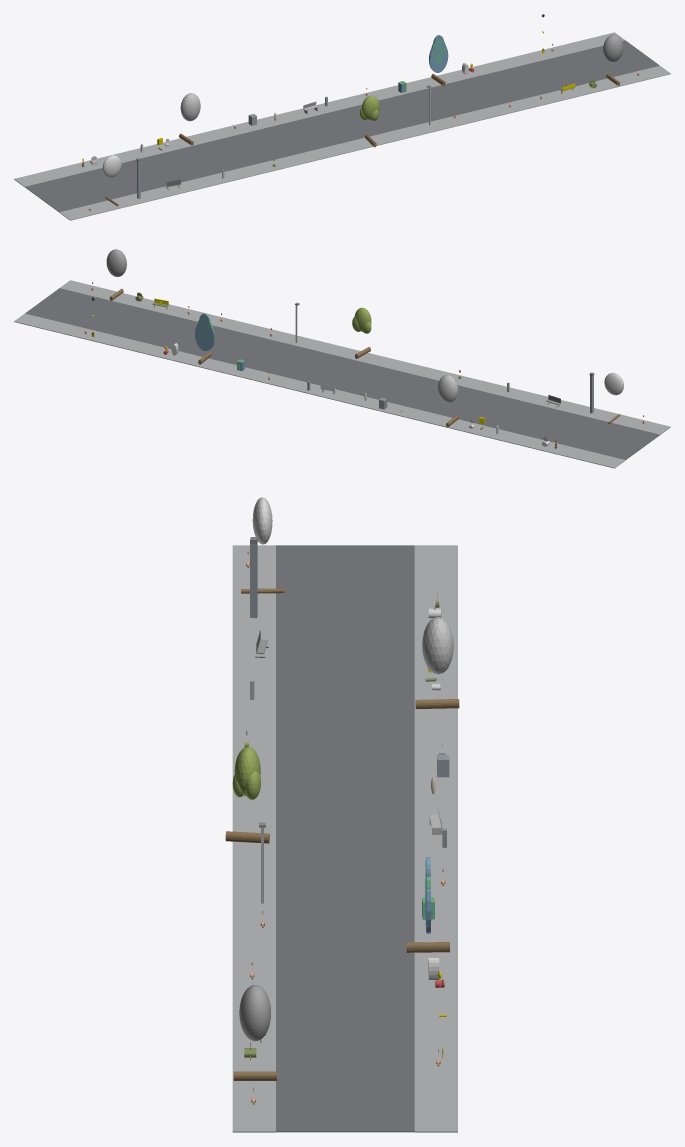
3 views of the same model, one above another, from view 1: azimuth 30°, elevation 25°; view 2: azimuth 150°, elevation 25°; view 3: azimuth 270°, elevation 25° (orthographic). The views are drawn at different scales.
Visible parts, largest first — view 1: road_slab, sidewalk_left, sidewalk_right, inst_0015, inst_0013, inst_0016, inst_0014, inst_0012; view 2: road_slab, sidewalk_right, sidewalk_left, inst_0015, inst_0013, inst_0016, inst_0014, inst_0012; view 3: road_slab, sidewalk_right, sidewalk_left, inst_0013, inst_0016, inst_0014, inst_0012, inst_0015.
Part boxes in pixels (x1=…): road_slab: x1=25, y1=40, x2=659, y2=212; sidewalk_left: x1=59, y1=65, x2=670, y2=220; sidewalk_right: x1=14, y1=32, x2=624, y2=187; inst_0015: x1=429, y1=35, x2=448, y2=86; inst_0013: x1=179, y1=93, x2=200, y2=145; inst_0016: x1=603, y1=34, x2=623, y2=85; inst_0014: x1=360, y1=95, x2=379, y2=147; inst_0012: x1=102, y1=155, x2=121, y2=206; road_slab: x1=25, y1=288, x2=659, y2=460; sidewalk_right: x1=14, y1=313, x2=625, y2=468; sidewalk_left: x1=60, y1=280, x2=670, y2=434; inst_0015: x1=195, y1=313, x2=214, y2=364; inst_0013: x1=437, y1=375, x2=458, y2=427; inst_0016: x1=106, y1=249, x2=126, y2=300; inst_0014: x1=352, y1=307, x2=371, y2=358; inst_0012: x1=604, y1=372, x2=623, y2=424; road_slab: x1=276, y1=545, x2=414, y2=1132; sidewalk_right: x1=414, y1=545, x2=457, y2=1132; sidewalk_left: x1=232, y1=545, x2=275, y2=1132; inst_0013: x1=415, y1=617, x2=459, y2=709; inst_0016: x1=233, y1=985, x2=276, y2=1080; inst_0014: x1=225, y1=746, x2=269, y2=843; inst_0012: x1=241, y1=497, x2=284, y2=593; inst_0015: x1=406, y1=857, x2=449, y2=952.
Size of the model in its own units: 80 by 6.08 by 13.47.
